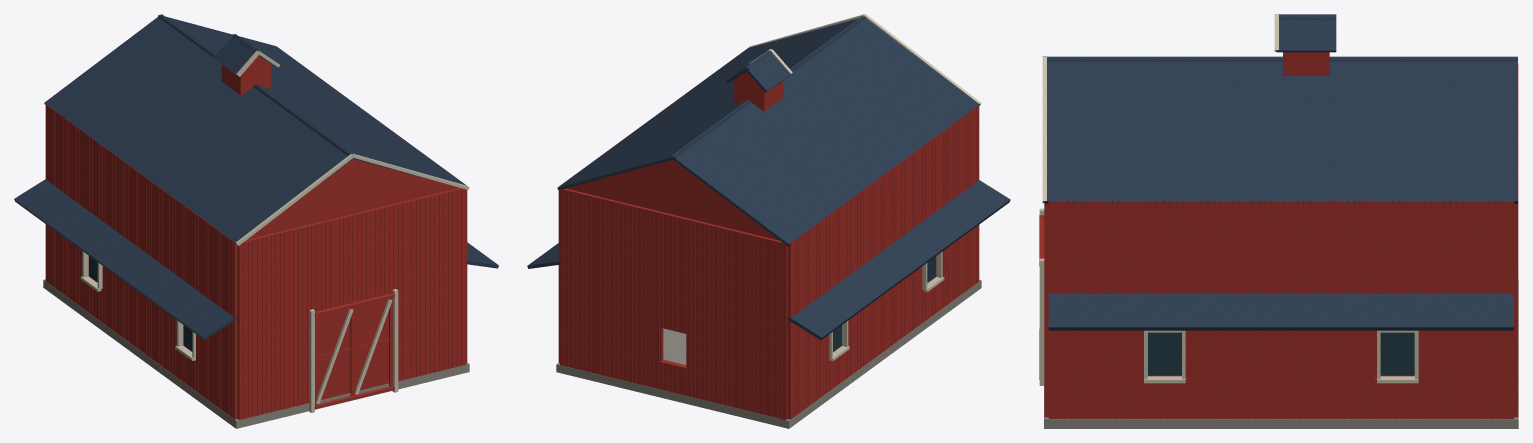
The model's file is BARN12_lod2.glb.
3 views of the same model, side by side, from view 1: azimuth 30°, elevation 25°; view 2: azimuth 150°, elevation 25°; view 3: azimuth 270°, elevation 25° (orthographic). The views are drawn at different scales.
Visible parts, largest first — view 1: BARN12_LOD2; view 2: BARN12_LOD2; view 3: BARN12_LOD2.
Part boxes in pixels (left/top/right/bottom): BARN12_LOD2: left=14, top=14, right=498, bottom=428; BARN12_LOD2: left=527, top=14, right=1010, bottom=428; BARN12_LOD2: left=1039, top=14, right=1518, bottom=428.
Size of the model in its own units: 11.72 by 10.64 by 13.38.
Materials: 8 (6 with a texture image).
